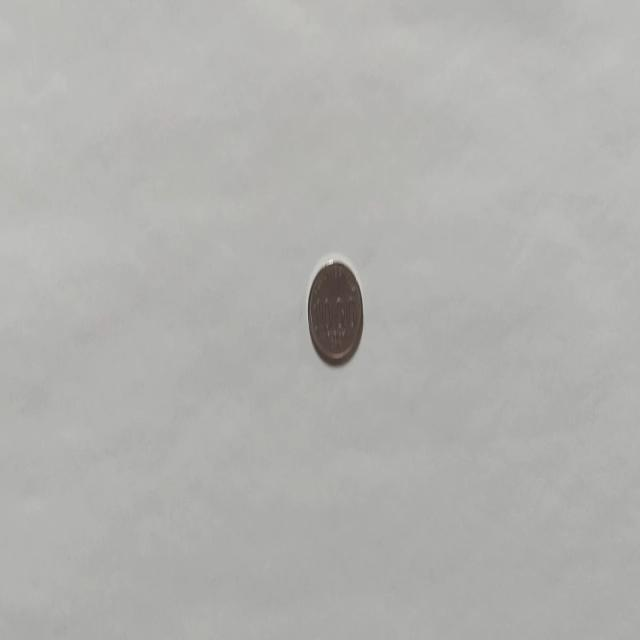seribu rupiah koin: (306, 254, 364, 366)
